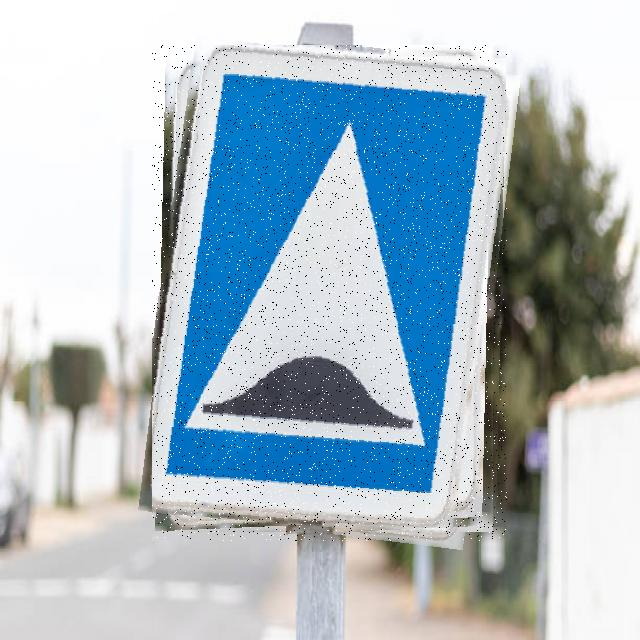hump: (152, 45, 507, 541)
